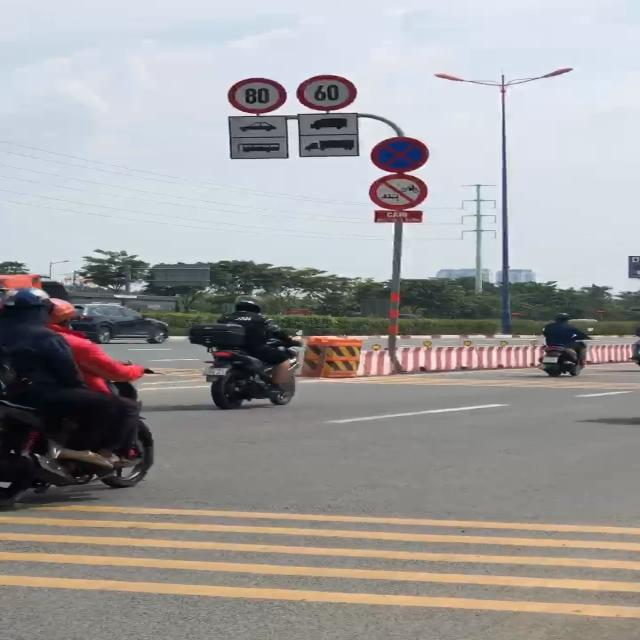Bien bao cam dung xe va do xe: (370, 132, 436, 173)
Bien bao toc do toi da cho phep: (222, 74, 293, 116), (295, 71, 362, 112)
